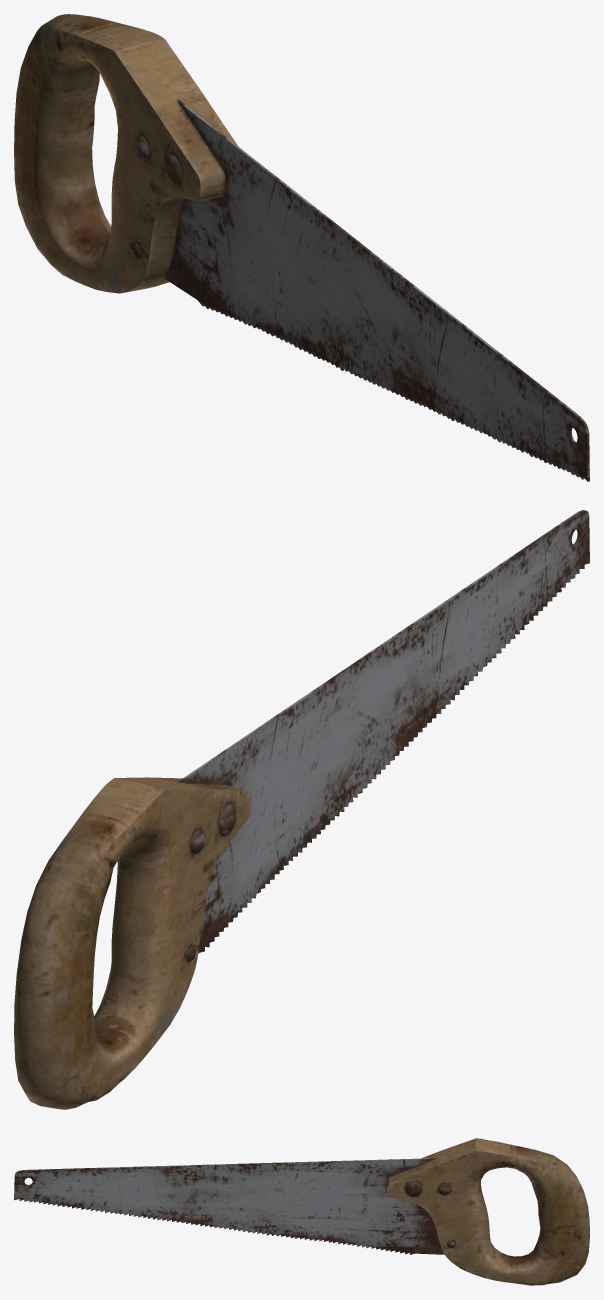
File: handsaw_wood.61e02318.glb
3 views of the same model, one above another, from view 1: azimuth 30°, elevation 25°; view 2: azimuth 150°, elevation 25°; view 3: azimuth 270°, elevation 25° (orthographic). The views are drawn at different scales.
Parts seen in each view (by area): view 1: handsaw_wood; view 2: handsaw_wood; view 3: handsaw_wood.
Boxes of the visible parts, x1,y1,x2,y2 form: handsaw_wood: (14, 14, 589, 481); handsaw_wood: (14, 510, 589, 1109); handsaw_wood: (14, 1138, 589, 1285).
Bounding box in the file's own units: 0.0464 × 0.1894 × 0.72.
Materials: 1 (1 with a texture image).
